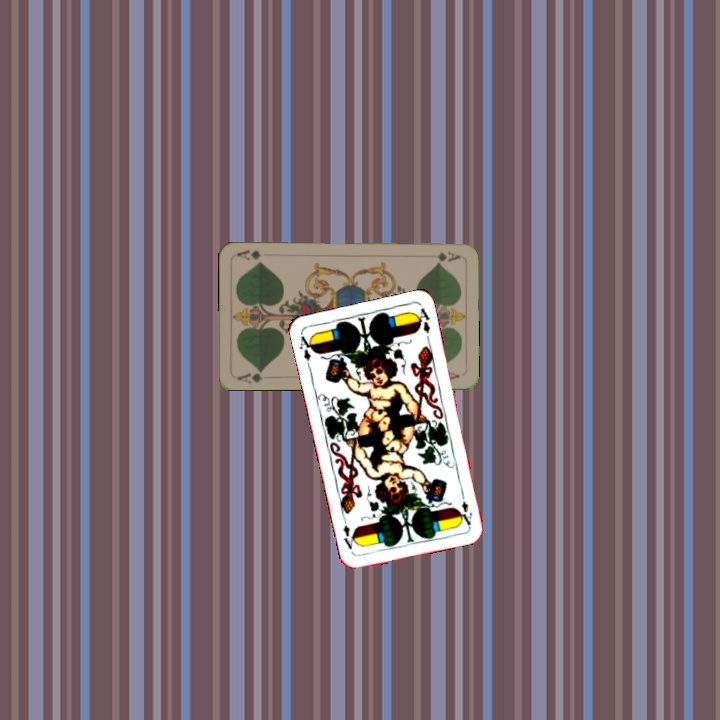EA: (295, 330, 317, 371), (456, 497, 475, 528)
GA: (234, 366, 267, 386), (433, 247, 462, 264)
